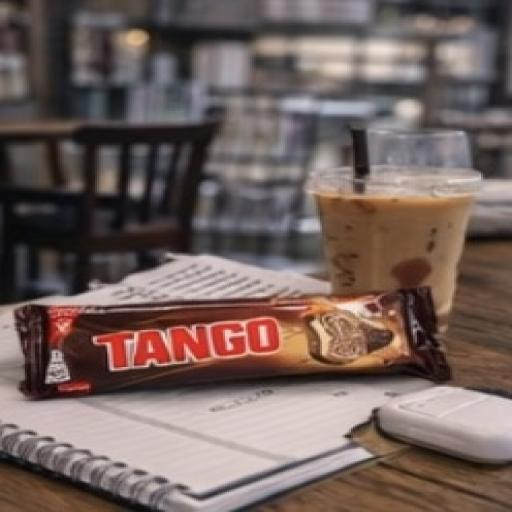tango: (16, 292, 450, 406)
